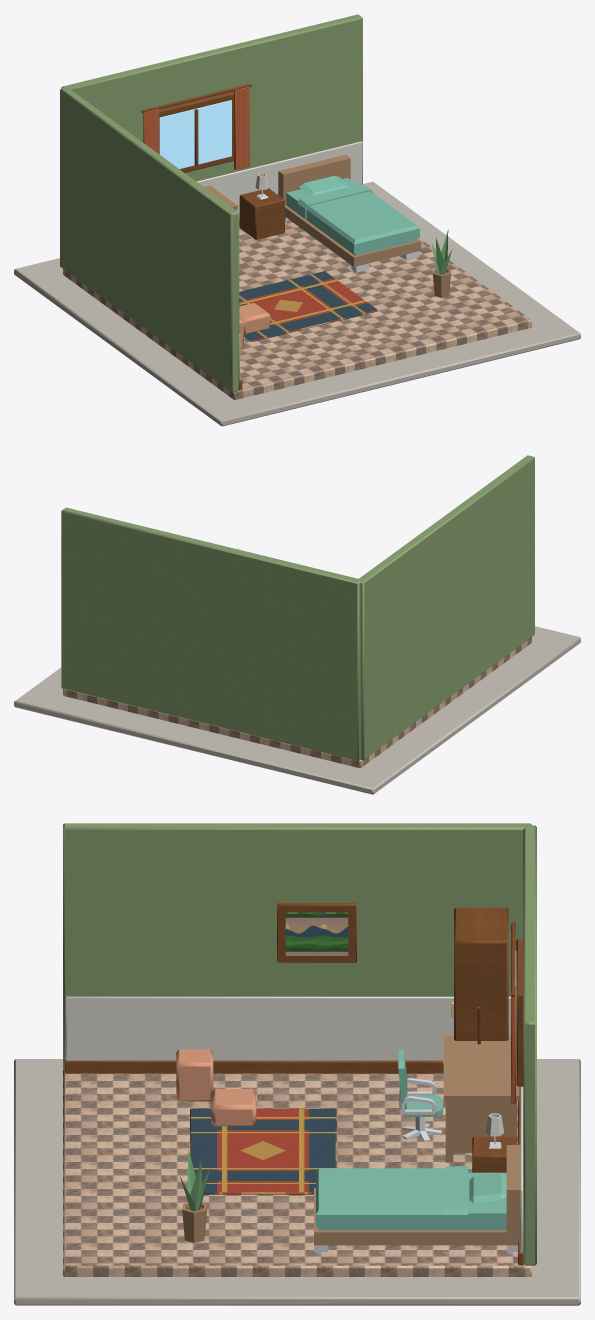
File: kos_neighbor_room.glb
3 views of the same model, one above another, from view 1: azimuth 30°, elevation 25°; view 2: azimuth 150°, elevation 25°; view 3: azimuth 270°, elevation 25° (orthographic). The views are drawn at different scales.
Parts seen in each view (by area): view 1: NbWallLeft, NbFloor, NbWallBack, NbYardPatio, NbRug, cover, bedSingle(Clone), NbWinSky, NbWainscotBack, NbNightstand, NbCurtain_0.38, NbWinFrame (+3 smaller); view 2: NbWallBack, NbWallLeft, NbYardPatio, NbFloor; view 3: NbWallLeft, NbFloor, NbYardPatio, NbWainscotLeft, NbRug, cover, NbWardrobe, desk(Clone), bedSingle(Clone), NbWallBack, NbSkirtLeft, NbArtCanvas (+10 smaller).
Part boxes in pixels (x1,y1,x2,y2): NbWallLeft: [60, 88, 239, 392]; NbFloor: [63, 220, 531, 399]; NbWallBack: [61, 14, 362, 183]; NbYardPatio: [14, 181, 580, 426]; NbRug: [239, 271, 378, 341]; cover: [297, 183, 419, 253]; bedSingle(Clone): [278, 154, 421, 272]; NbWinSky: [159, 100, 231, 168]; NbWainscotBack: [196, 141, 362, 217]; NbNightstand: [239, 188, 284, 239]; NbCurtain_0.38: [234, 87, 249, 169]; NbWinFrame: [159, 91, 233, 172]; NbWallBack: [61, 507, 361, 760]; NbWallLeft: [358, 455, 534, 760]; NbYardPatio: [14, 626, 580, 794]; NbFloor: [63, 637, 531, 767]; NbWallLeft: [63, 823, 531, 1070]; NbFloor: [63, 1070, 531, 1276]; NbYardPatio: [14, 1059, 580, 1305]; NbWainscotLeft: [65, 996, 510, 1060]; NbRug: [190, 1108, 336, 1194]; cover: [316, 1166, 468, 1228]; NbWardrobe: [454, 907, 508, 1040]; desk(Clone): [443, 1036, 519, 1162]; bedSingle(Clone): [314, 1145, 520, 1251]; NbWallBack: [523, 825, 536, 1265]; NbSkirtLeft: [65, 1060, 443, 1073]; NbArtCanvas: [285, 912, 348, 955].
Size of what is drawn, in the model's own units: 5.8 by 2.97 by 5.8.
26 materials, 7 textured.
